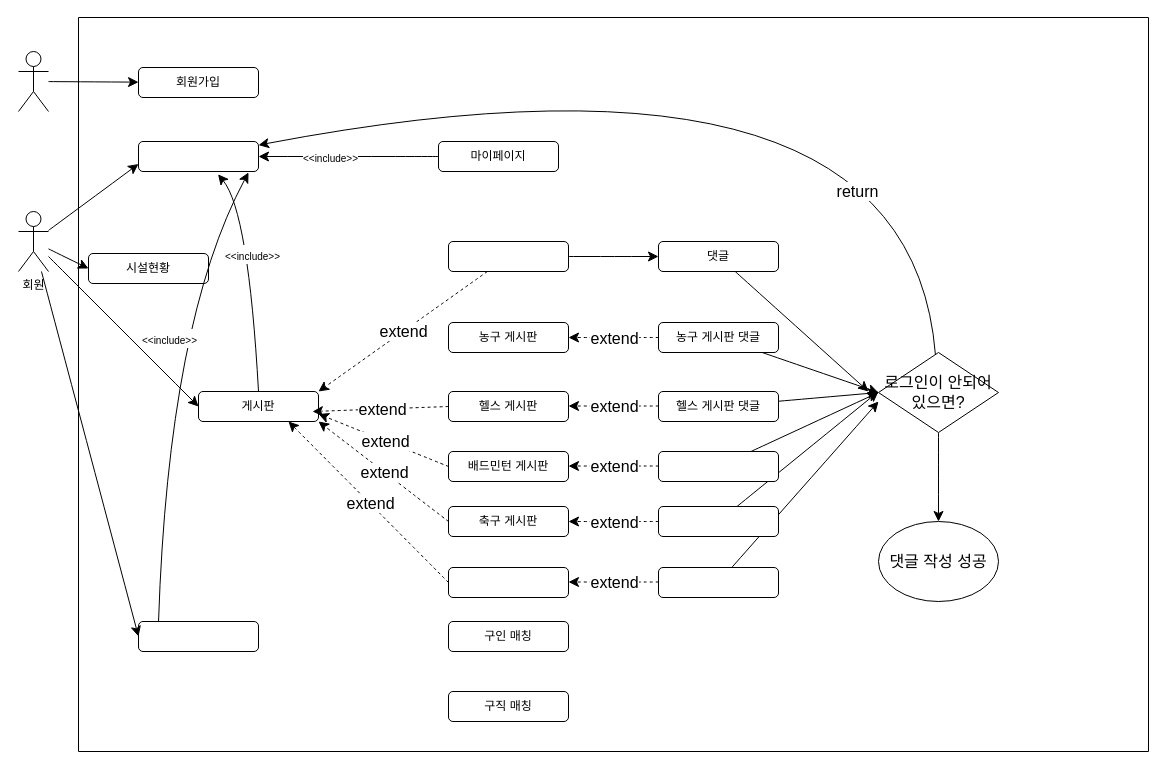
Some shapes in this 1166 by 769 pixel diagram are drawn without their labels. Each missing label, with the centre of its shape:
"러닝 게시판" belongs at [508,256].
"로그인" belongs at [198,156].
"매칭" belongs at [198,636].
"배드민턴 게시판 댓글" belongs at [718,466].
"비회원" belongs at [33,81].
"축구 게시판 댓글" belongs at [718,521].
"테니스 게시판" belongs at [508,582].
"테니스 게시판 댓글" belongs at [718,582].
